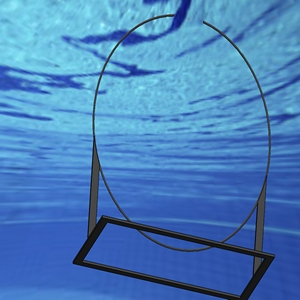circle: (70, 11, 271, 300)
